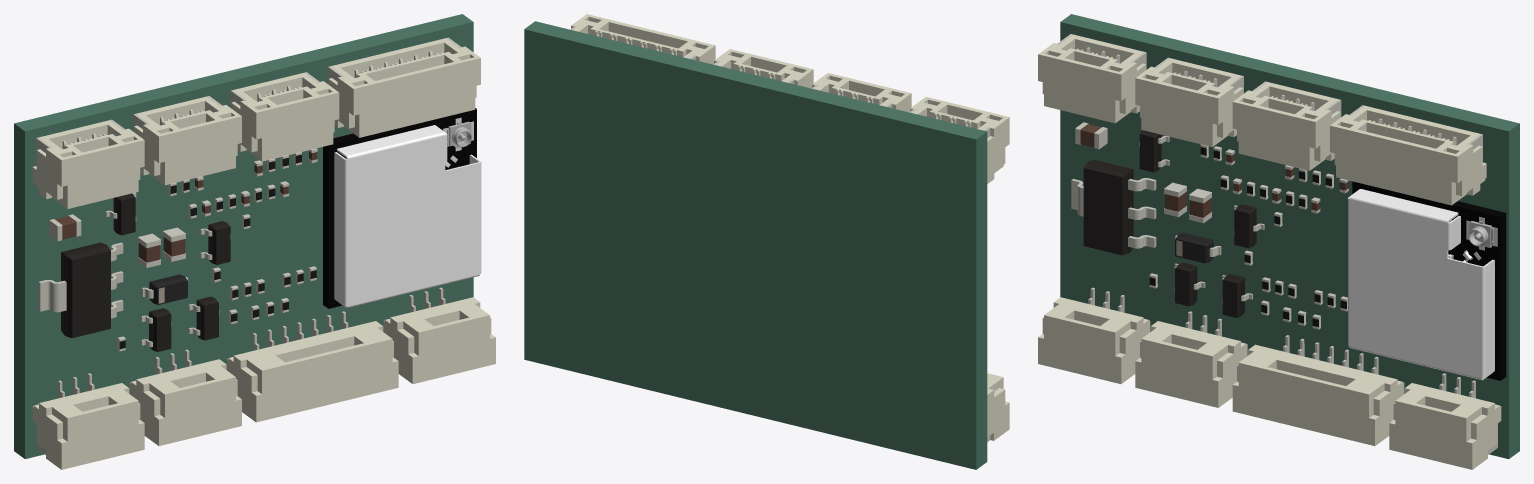
Rendered from board.glb.
3 renders of one model, left to right at view 1: azimuth 30°, elevation 25°; view 2: azimuth 150°, elevation 25°; view 3: azimuth 330°, elevation 25°, orthographic.
Visible parts, largest first — view 1: =>[0:1:1:22], =>[0:1:1:15]_4d7ac7, =>[0:1:1:19]_b31556, =>[0:1:1:21]_6ad0b6, =>[0:1:1:13]_5_58de95, =>[0:1:1:13]_5c7aa2, =>[0:1:1:13]_4_ba899d, =>[0:1:1:13]_2_0fac15, =>[0:1:1:13]_3_42ce75, =>[0:1:1:13]_1_2b443c, =>[0:1:1:11]_30de89, =>[0:1:1:15]_66c3d0 (+8 smaller); view 2: =>[0:1:1:22], =>[0:1:1:21]_6ad0b6, =>[0:1:1:13]_5_58de95, =>[0:1:1:13]_2_0fac15, =>[0:1:1:13]_4_ba899d, =>[0:1:1:13]_5c7aa2; view 3: =>[0:1:1:22], =>[0:1:1:15]_4d7ac7, =>[0:1:1:19]_b31556, =>[0:1:1:21]_6ad0b6, =>[0:1:1:13]_1_2b443c, =>[0:1:1:13]_5_58de95, =>[0:1:1:13]_4_ba899d, =>[0:1:1:13]_2_0fac15, =>[0:1:1:13]_5c7aa2, =>[0:1:1:13]_3_42ce75, =>[0:1:1:11]_30de89, =>[0:1:1:15]_66c3d0 (+8 smaller).
Part boxes in pixels (x1,y1,x2,y2): =>[0:1:1:22]: (14,14,473,458); =>[0:1:1:15]_4d7ac7: (334,125,481,308); =>[0:1:1:19]_b31556: (227,321,398,422); =>[0:1:1:21]_6ad0b6: (328,38,480,137); =>[0:1:1:13]_5_58de95: (32,120,144,208); =>[0:1:1:13]_5c7aa2: (32,383,144,469); =>[0:1:1:13]_4_ba899d: (231,73,339,161); =>[0:1:1:13]_2_0fac15: (134,96,241,185); =>[0:1:1:13]_3_42ce75: (129,359,241,445); =>[0:1:1:13]_1_2b443c: (383,297,495,383); =>[0:1:1:11]_30de89: (61,242,110,338); =>[0:1:1:15]_66c3d0: (323,108,476,308); =>[0:1:1:22]: (524,21,987,469); =>[0:1:1:21]_6ad0b6: (571,14,715,64); =>[0:1:1:13]_5_58de95: (910,97,1009,183); =>[0:1:1:13]_2_0fac15: (812,73,911,112); =>[0:1:1:13]_4_ba899d: (714,49,813,88); =>[0:1:1:13]_5c7aa2: (987,373,1009,440); =>[0:1:1:22]: (1060,14,1519,458); =>[0:1:1:15]_4d7ac7: (1348,189,1494,380); =>[0:1:1:19]_b31556: (1232,344,1404,445); =>[0:1:1:21]_6ad0b6: (1330,105,1486,205); =>[0:1:1:13]_1_2b443c: (1389,383,1501,469); =>[0:1:1:13]_5_58de95: (1038,34,1146,123); =>[0:1:1:13]_4_ba899d: (1232,82,1340,170); =>[0:1:1:13]_2_0fac15: (1135,58,1243,146); =>[0:1:1:13]_5c7aa2: (1038,297,1150,383); =>[0:1:1:13]_3_42ce75: (1135,321,1247,407); =>[0:1:1:11]_30de89: (1083,159,1133,255); =>[0:1:1:15]_66c3d0: (1352,181,1506,380).
Bounding box in the file's own units: 37.8 × 26.4 × 5.89.
